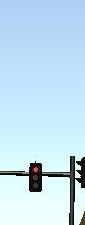Red: (29, 163, 42, 192)
